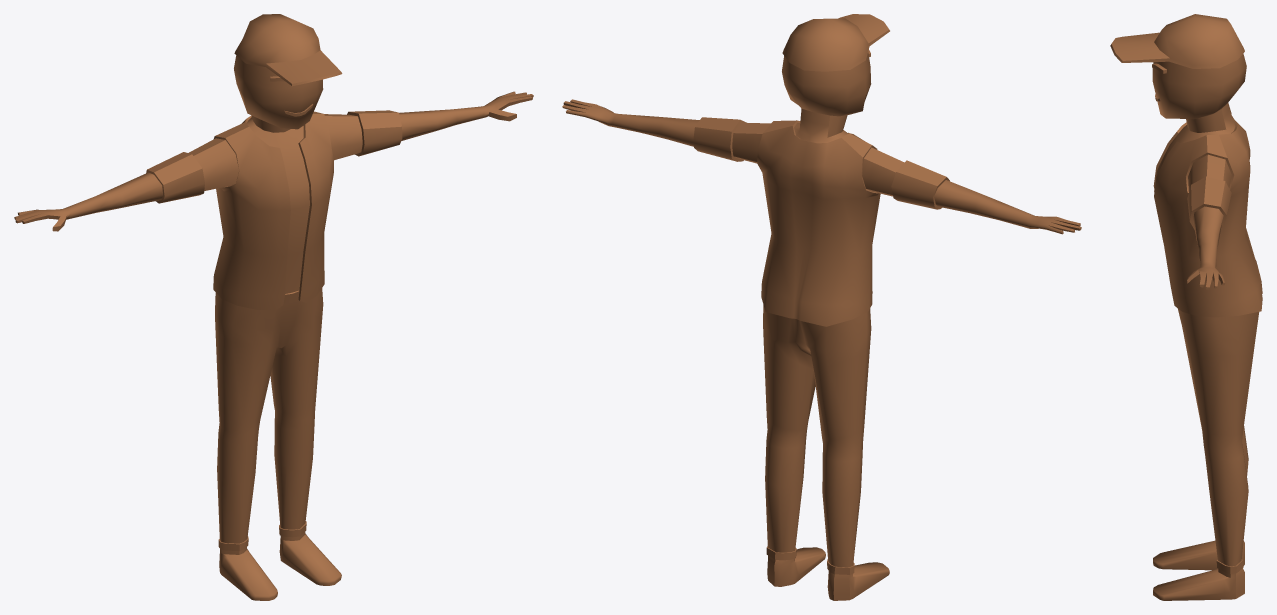
3 renders of one model, left to right at view 1: azimuth 30°, elevation 25°; view 2: azimuth 150°, elevation 25°; view 3: azimuth 270°, elevation 25°, orthographic.
Visible parts, largest first — view 1: Cube013; view 2: Cube013; view 3: Cube013.
Boxes of the visible parts, x1,y1,x2,y2 form: Cube013: [14, 14, 533, 600]; Cube013: [562, 14, 1081, 600]; Cube013: [1110, 14, 1262, 600].
Bounding box in the file's own units: 111 × 115 × 28.23.
